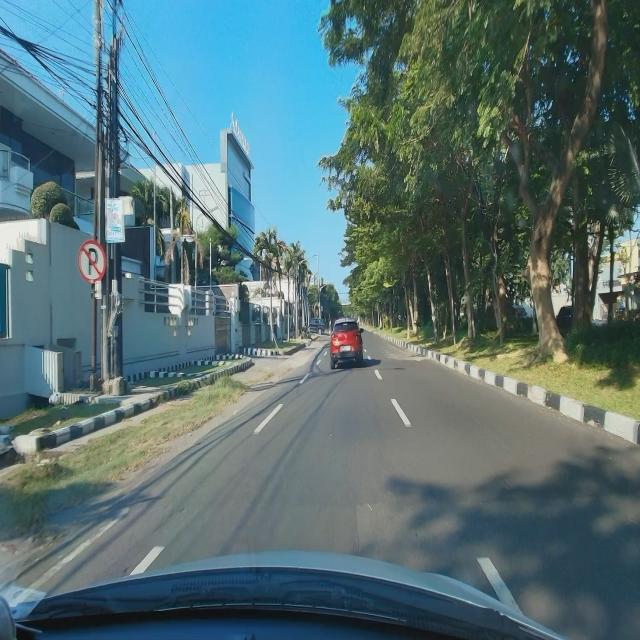car: (329, 317, 365, 370)
license-plate: (341, 344, 351, 352)
